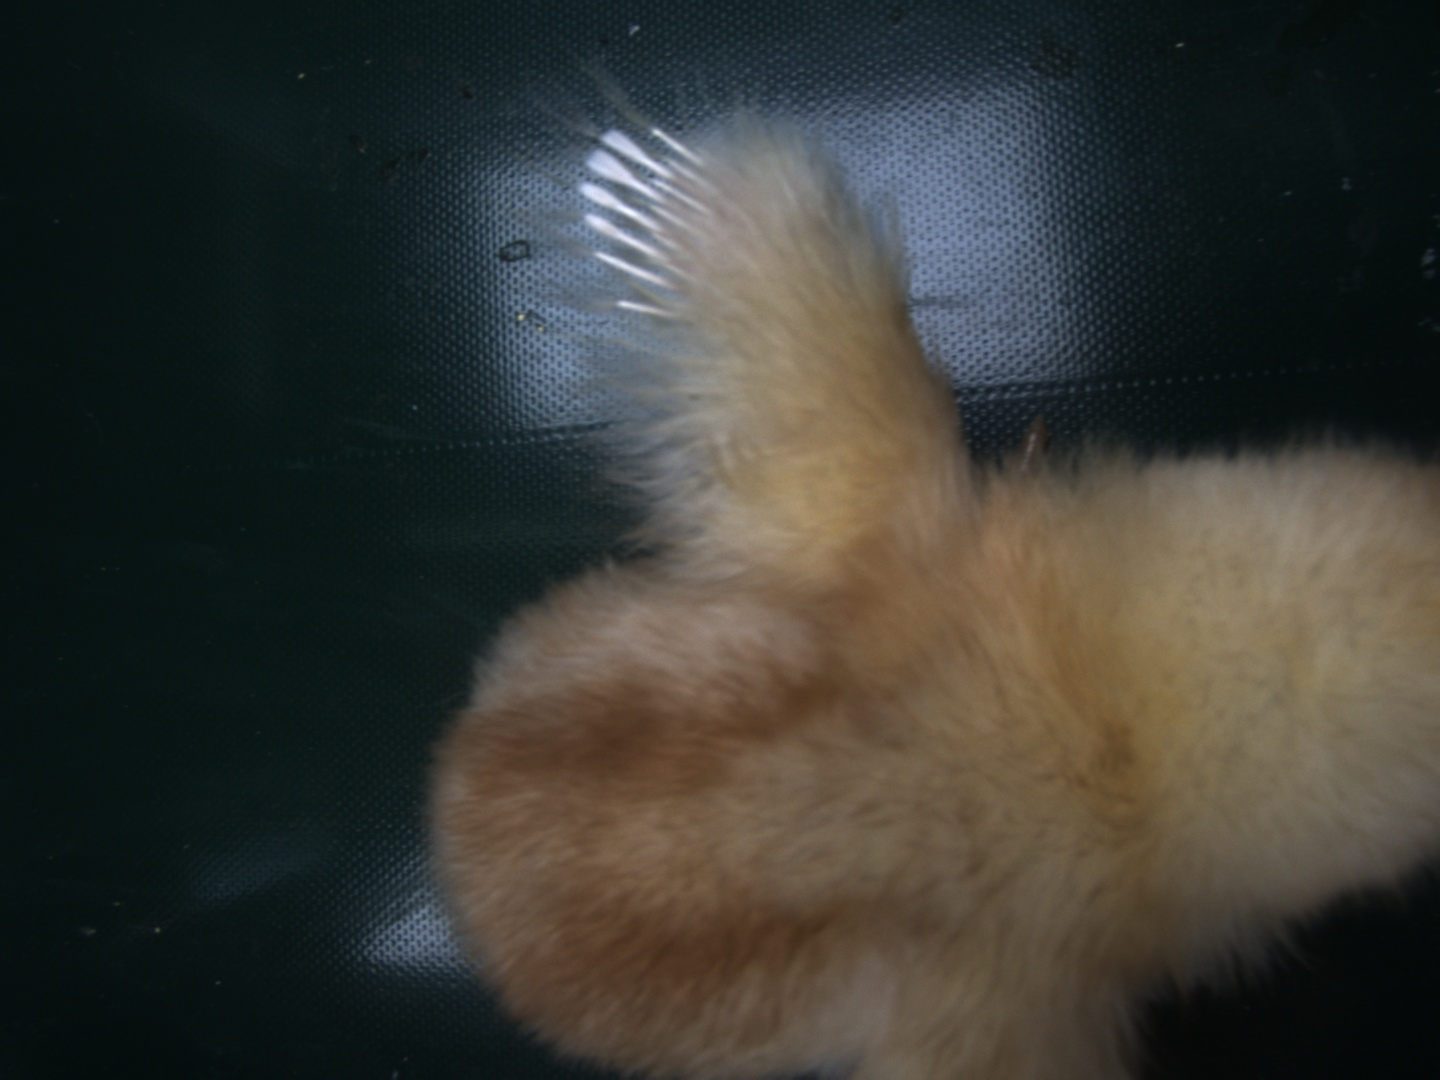female: (574, 125, 732, 328)
